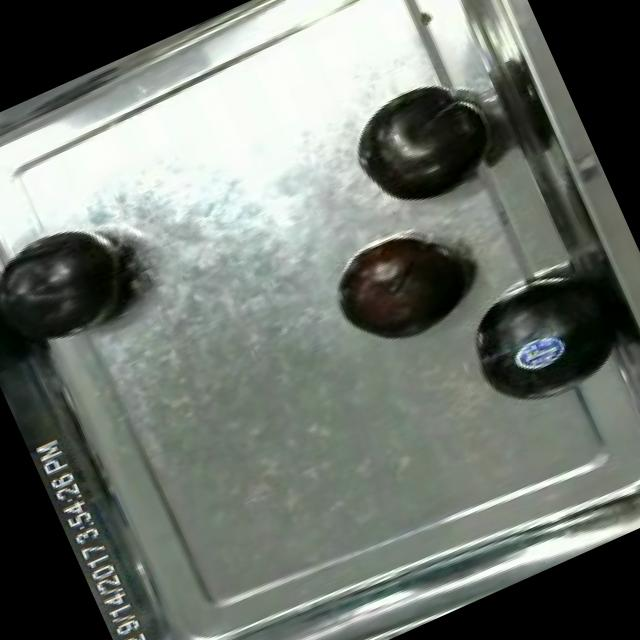Fruit: (443, 252, 638, 434), (334, 64, 508, 227), (314, 214, 485, 368), (0, 211, 147, 371)
